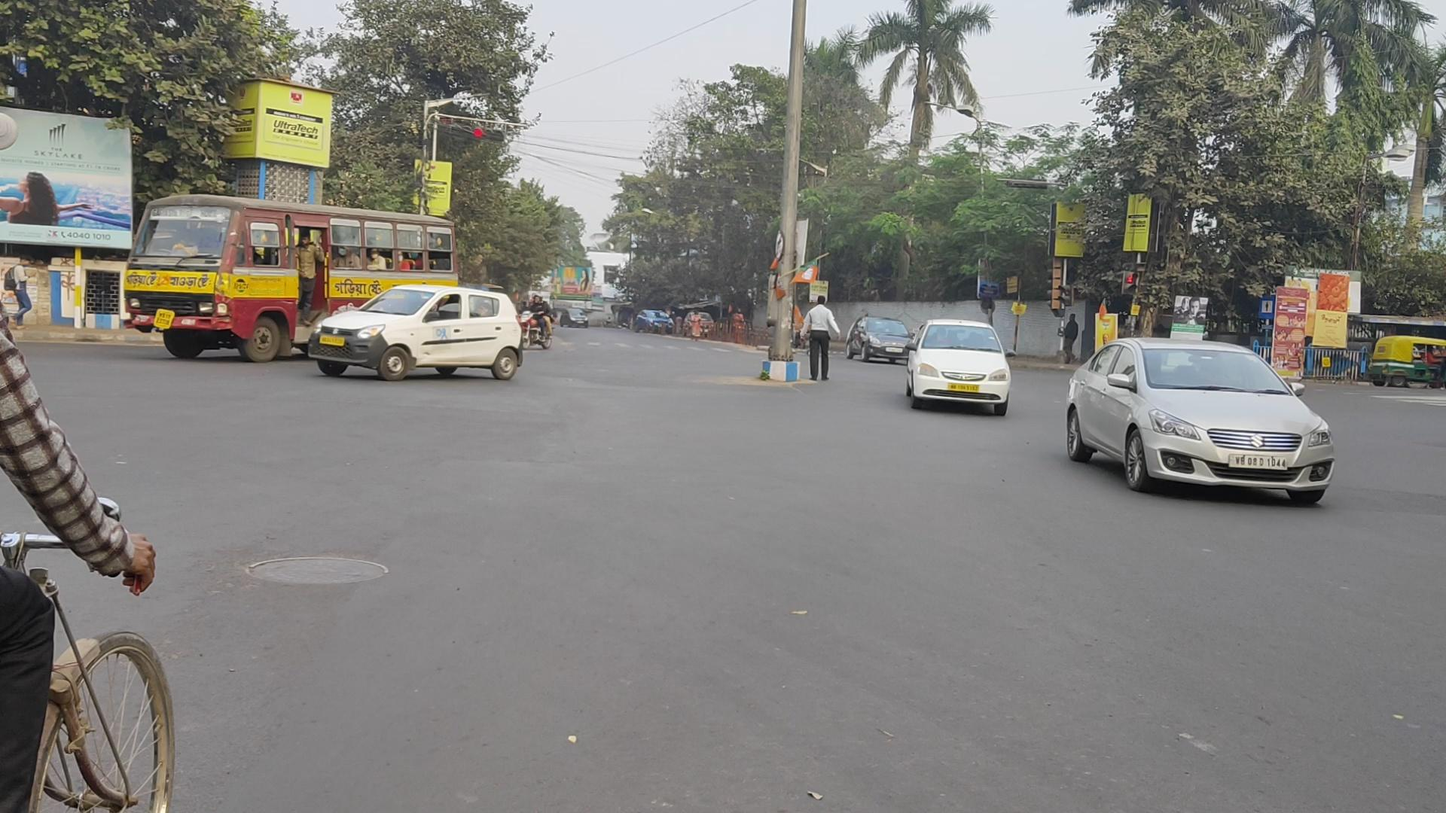Auto: (1368, 335, 1446, 388)
Bus: (124, 194, 454, 364)
bike: (519, 293, 554, 349)
car: (1066, 337, 1336, 506), (307, 285, 522, 382), (906, 318, 1017, 416), (846, 314, 915, 365), (636, 309, 673, 335), (682, 312, 716, 340), (560, 308, 590, 328)
